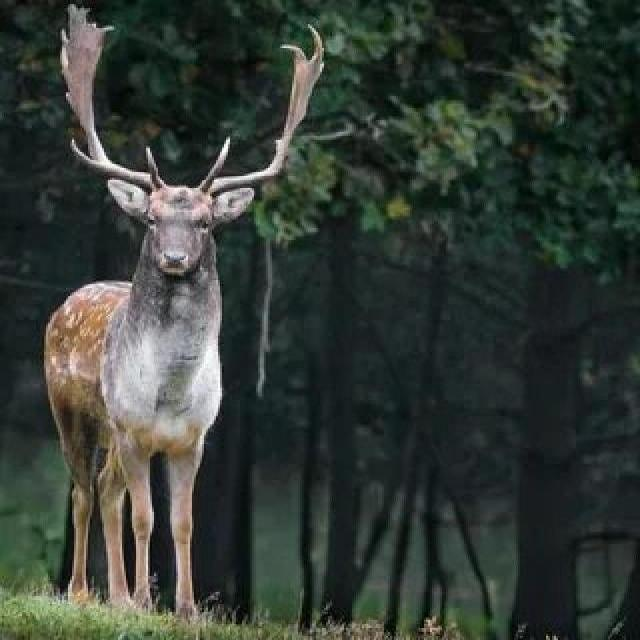deer: (11, 69, 369, 523)
